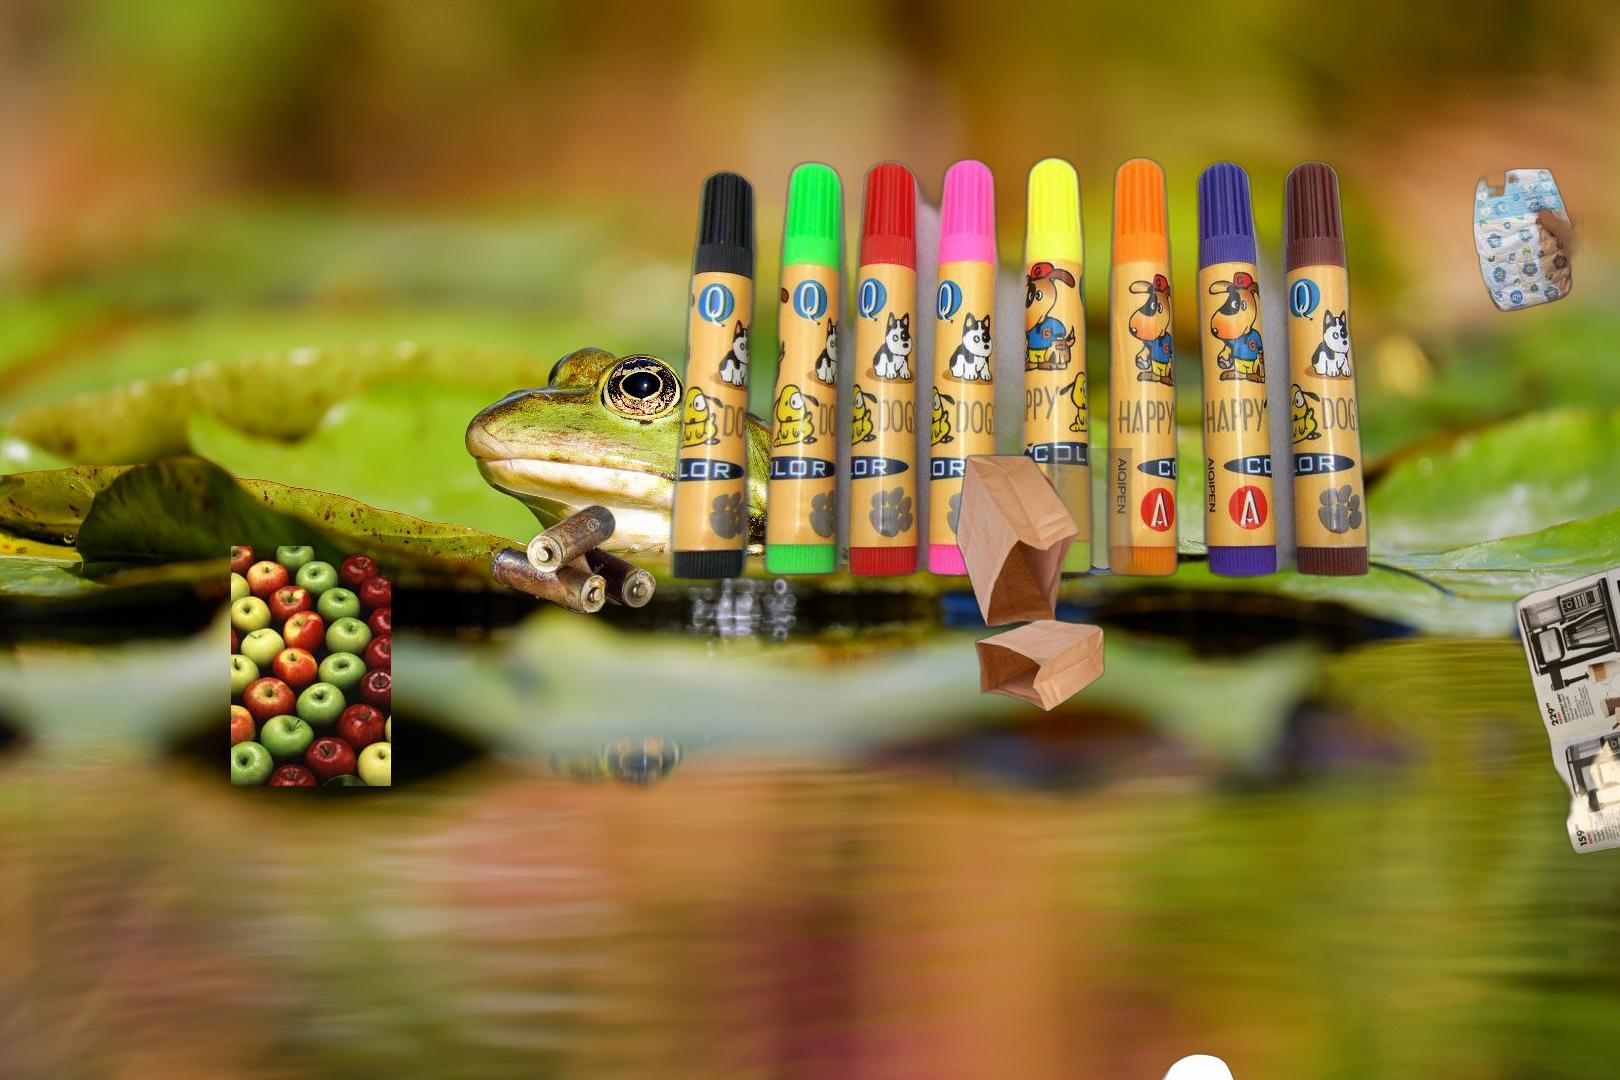battery: (488, 501, 659, 617)
biological: (231, 546, 391, 786)
paper: (1509, 518, 1620, 858)
paper-bag: (926, 448, 1219, 715)
penholder: (664, 152, 1377, 585)
trash: (1321, 121, 1584, 313), (1082, 1051, 1274, 1080)
